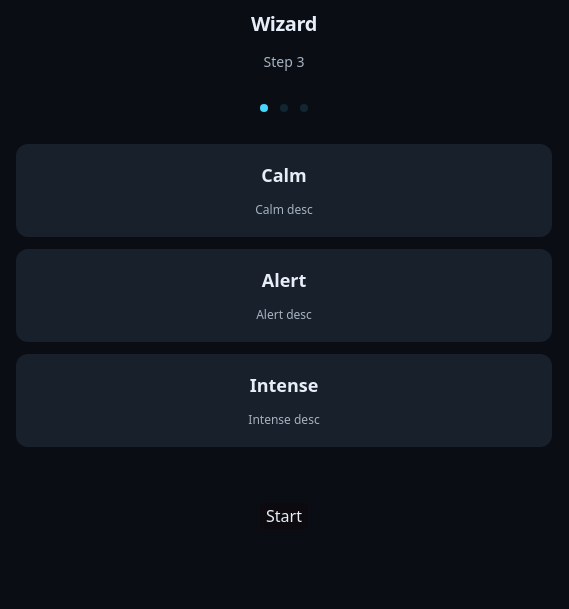
SimpleModeWizard › shows the preset step and keeps the start button disabled without a valid selection
Expected: the button "Start" is disabled, [260,503,308,529]
Click the text "Calm" at (284, 176), box [261,162,307,189]
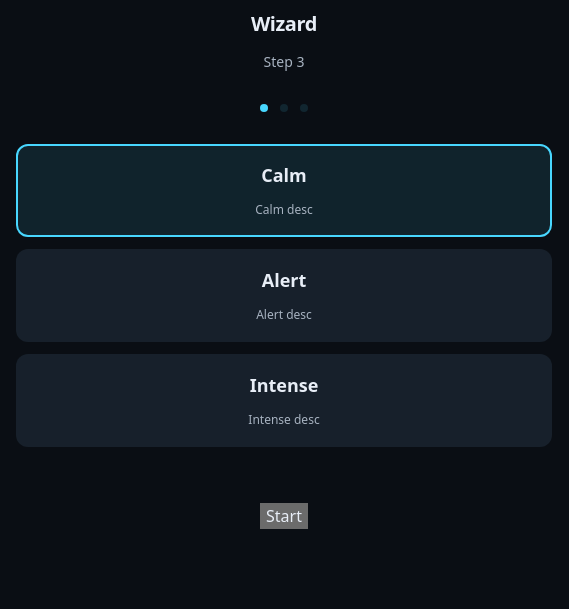
Result: the button "Start" is enabled
Click the button "Start" at (284, 516), box [260,503,308,529]
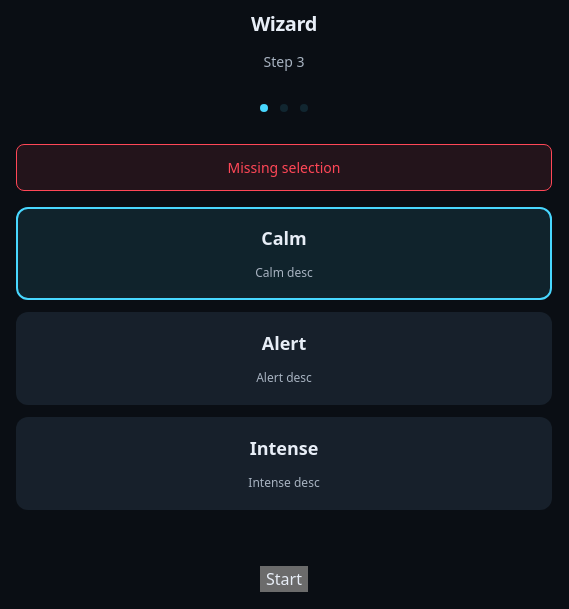
Result: the text "Missing selection" is shown at [16,144,552,191]
